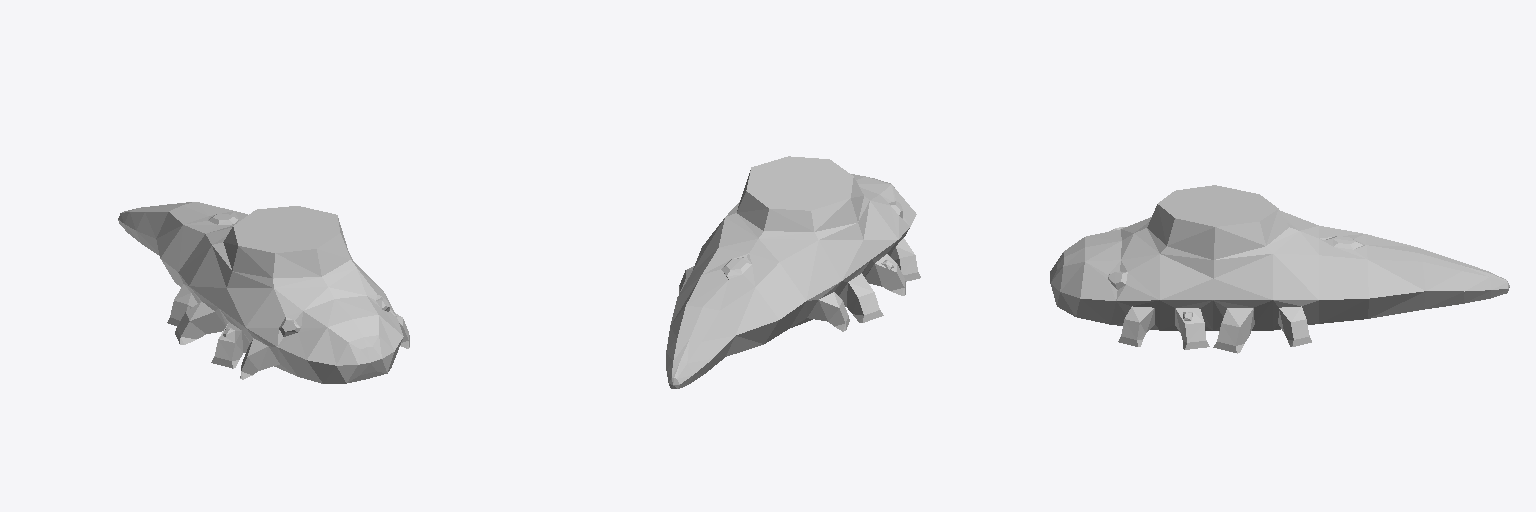
Rendered from DS_CL_Running01.obj.
3 views of the same model, side by side, from view 1: azimuth 30°, elevation 25°; view 2: azimuth 150°, elevation 25°; view 3: azimuth 270°, elevation 25° (orthographic).
Visible parts, largest first — view 1: default; view 2: default; view 3: default.
Boxes of the visible parts, <box> form: default: <box>118,202,409,383</box>; default: <box>666,156,920,388</box>; default: <box>1050,185,1509,353</box>.
Bounding box in the file's own units: 3.14 × 1.67 × 6.52.